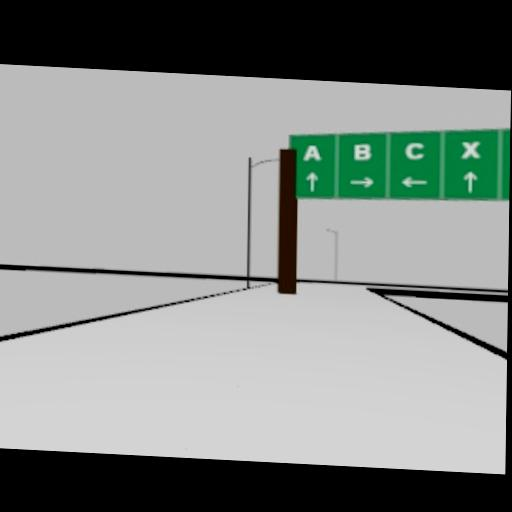A: (303, 144, 321, 161)
B: (352, 141, 370, 160)
C: (405, 141, 425, 160)
Left: (400, 175, 430, 188)
Right: (348, 176, 373, 188)
Straight: (462, 171, 477, 192), (304, 170, 317, 191)
X: (461, 139, 481, 158)
